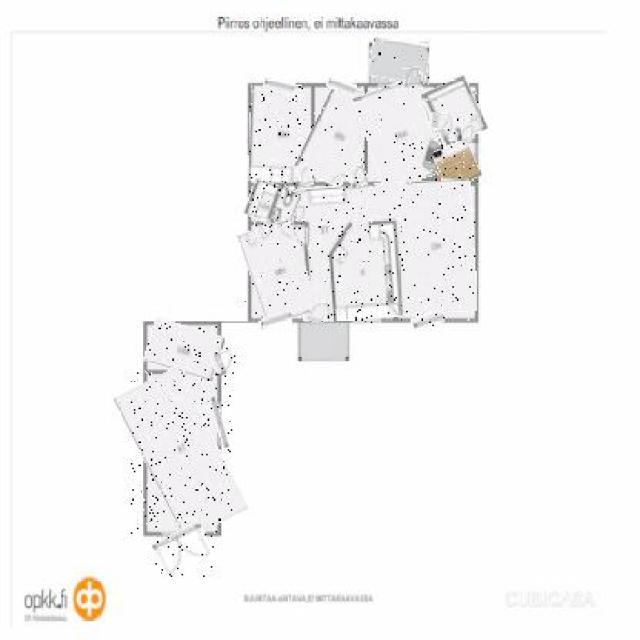door: (155, 526, 214, 579), (211, 348, 237, 374), (346, 160, 366, 188), (292, 222, 311, 249), (256, 220, 276, 242), (405, 68, 423, 88), (308, 302, 326, 322), (297, 163, 312, 186), (430, 112, 448, 130), (461, 123, 474, 145)
window: (212, 397, 226, 449), (264, 78, 296, 94), (260, 314, 292, 329), (412, 312, 445, 326), (328, 78, 357, 92), (354, 316, 381, 324)
zone: (298, 182, 476, 320), (131, 371, 232, 535), (360, 80, 442, 188), (303, 83, 372, 185), (244, 222, 310, 323), (249, 86, 309, 182), (146, 322, 222, 376), (426, 80, 483, 145), (369, 38, 429, 82), (246, 182, 297, 226), (436, 142, 478, 186)
